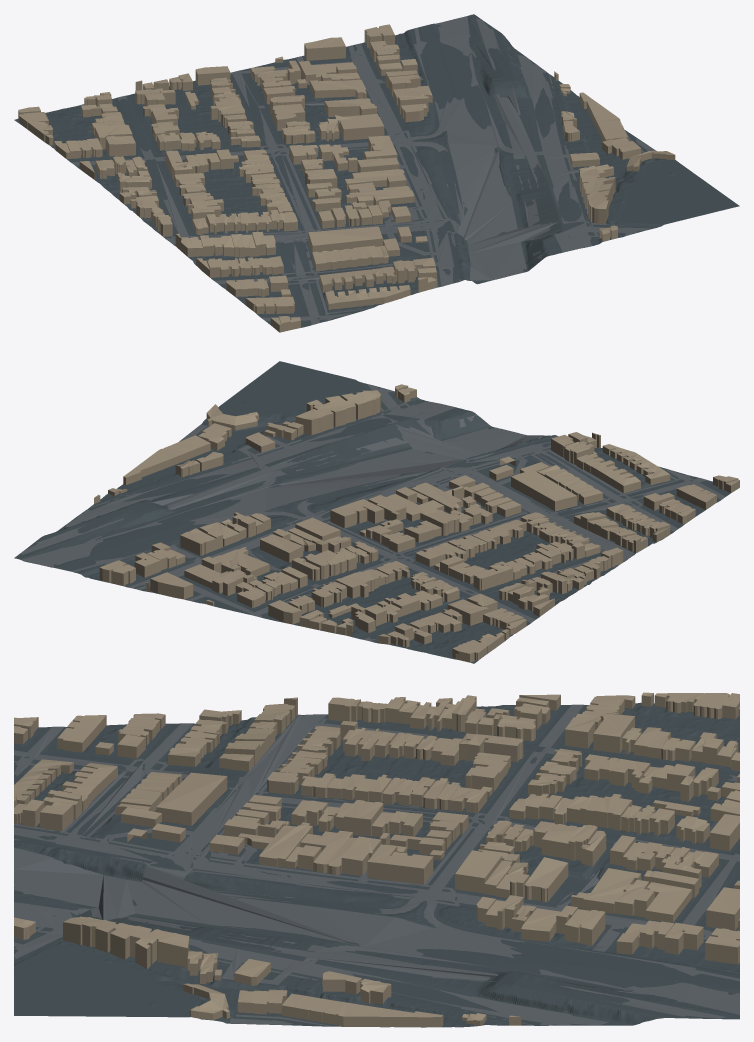
The model's file is epsg26910-1438-10875.lod0.glb.
3 renders of one model, top to bottom at view 1: azimuth 30°, elevation 25°; view 2: azimuth 150°, elevation 25°; view 3: azimuth 270°, elevation 25°, orthographic. The views are drawn at different scales.
Parts seen in each view (by area): view 1: epsg26910-1438-10875-lod0; view 2: epsg26910-1438-10875-lod0; view 3: epsg26910-1438-10875-lod0.
Part boxes in pixels (x1,y1,x2,y2): epsg26910-1438-10875-lod0: (14,14,739,332); epsg26910-1438-10875-lod0: (14,361,739,663); epsg26910-1438-10875-lod0: (14,692,739,1027).
Bounding box in the file's own units: 384 × 24.07 × 384.
